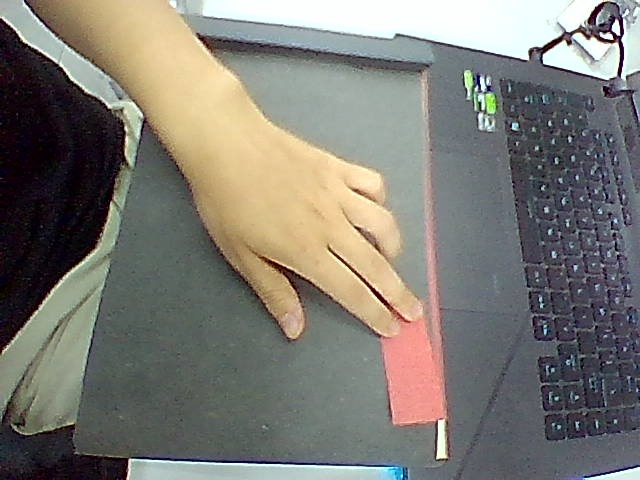card: (381, 320, 445, 425)
